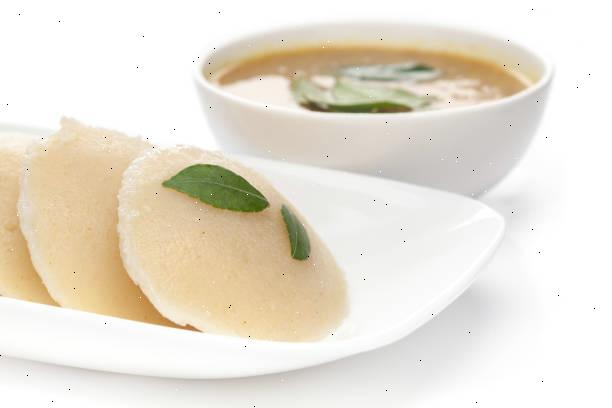idli: (3, 123, 335, 343)
sambhar: (216, 45, 526, 121)
